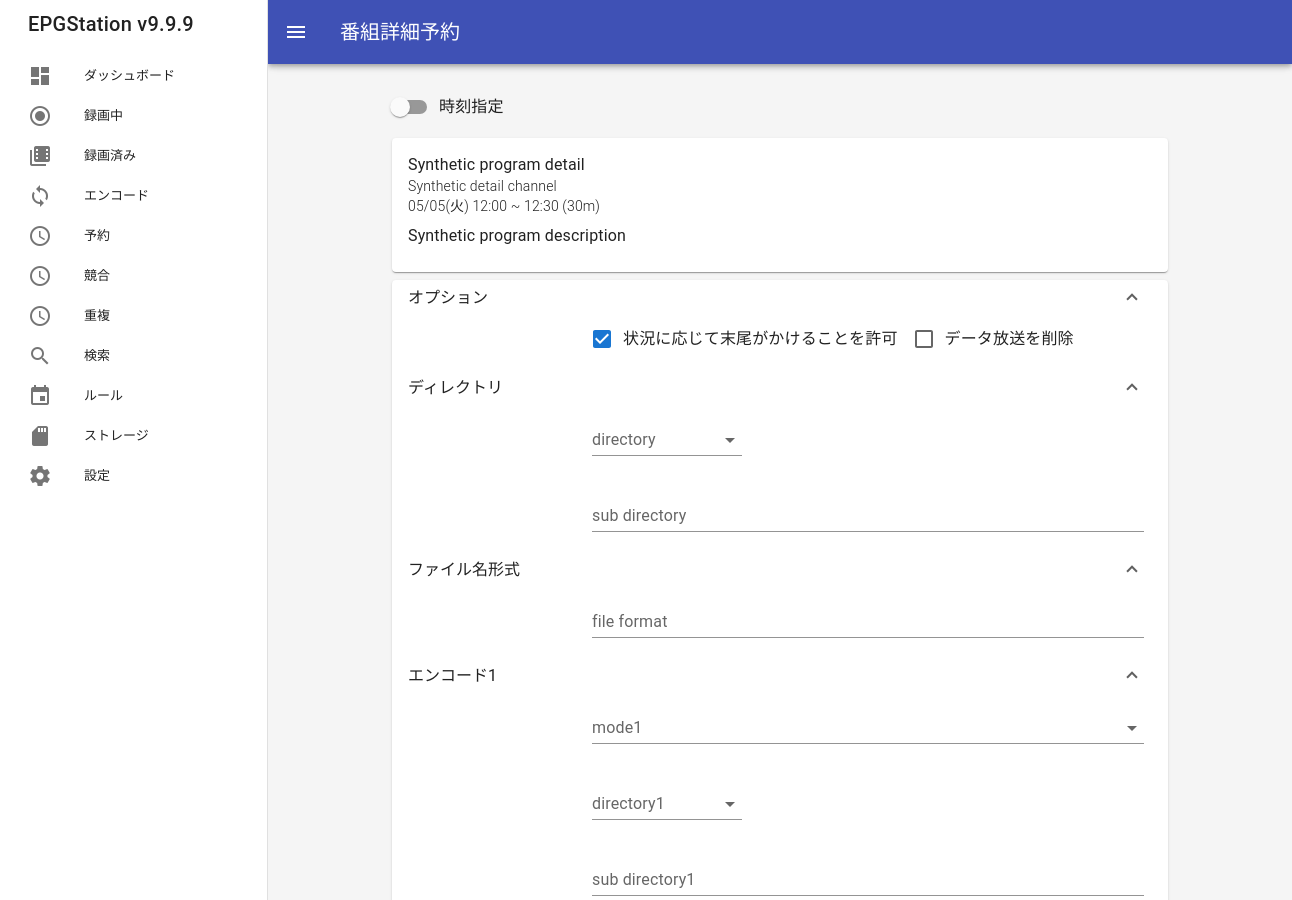
Scenario: Manual Reserve add submit flow › [AC 4.12] [AC 4.23] replaces program information with time-specified target fields when the time switch is enabled
The width and height of the screenshot is (1292, 900).
Expected: the heading "Synthetic program detail" is shown, [408,155,585,174]
Click the switch labelled "時刻指定". click: (447, 107)
box: [390,97,504,117]
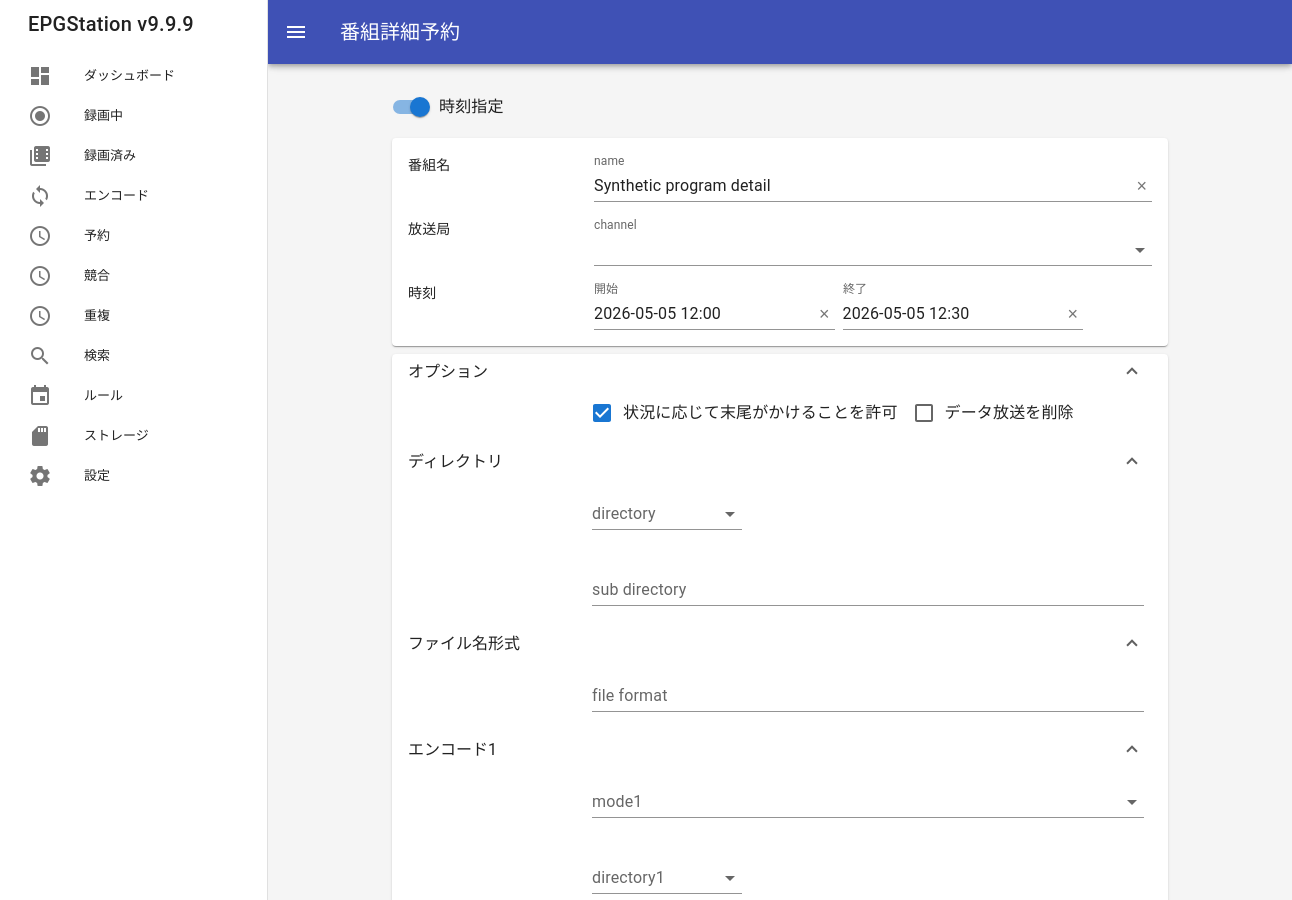
Now the element named "時刻指定予約" is shown, box [392,138,1168,346]
Now the field labelled "開始" holds "2026-05-05 12:00", box [594,298,814,330]
Now the field labelled "終了" holds "2026-05-05 12:30", box [842,298,1062,330]
Click the switch labelled "時刻指定". click: (448, 107)
box: [393,97,504,117]
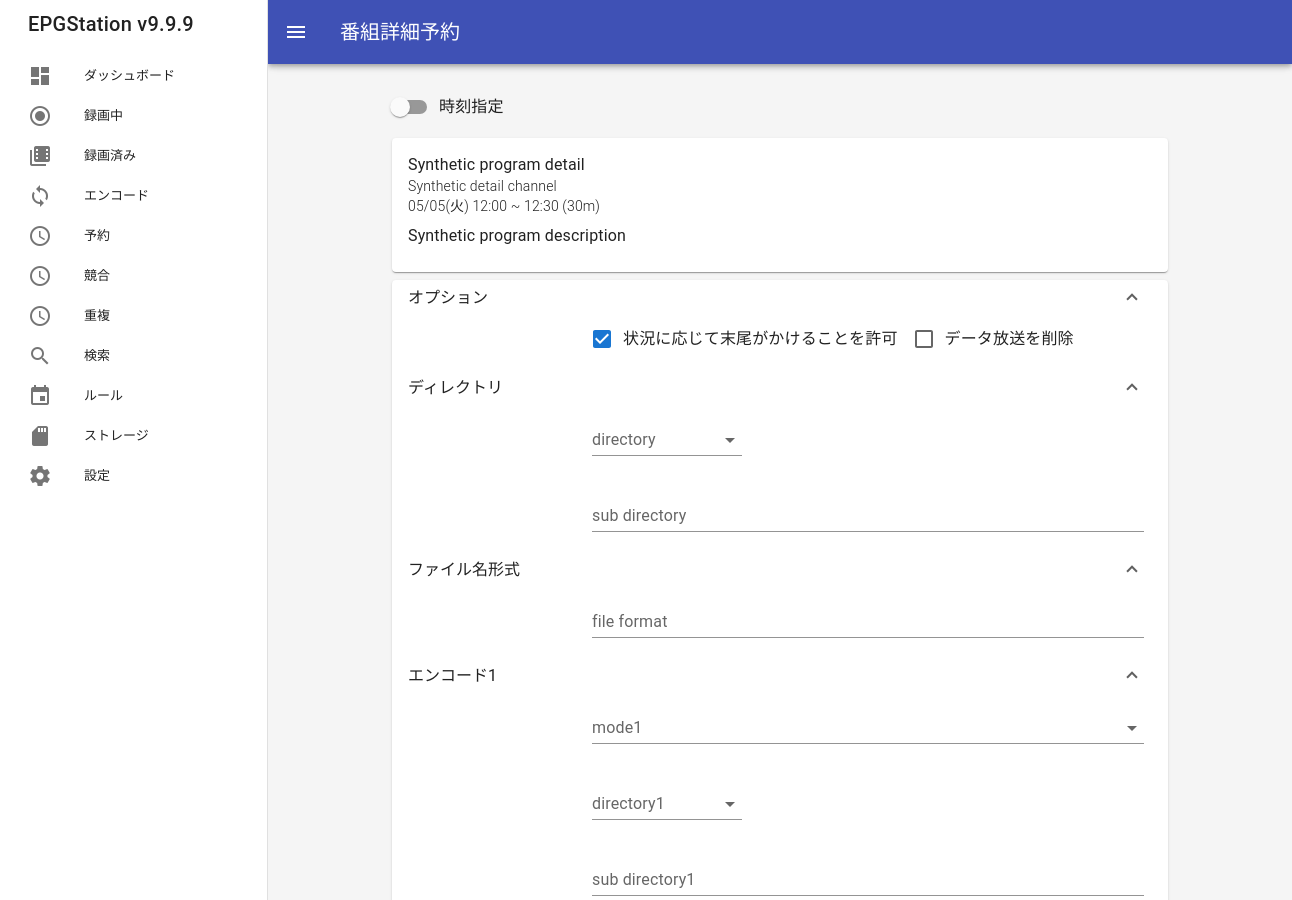
Now the heading "Synthetic program detail" is shown, box [408,155,585,174]
Now the element "時刻指定予約" is gone
